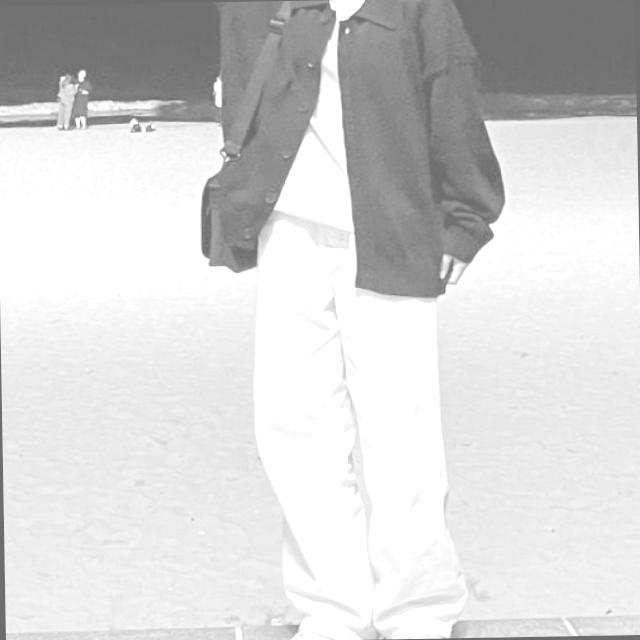cardigan: (216, 0, 504, 302)
cottonpants: (245, 201, 466, 640)
